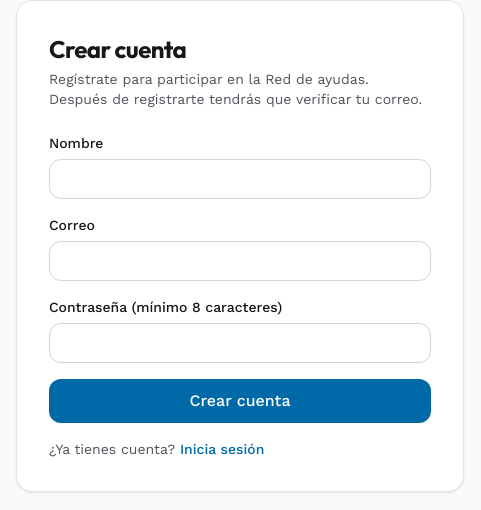
RegisterPage › registra una cuenta personal y muestra "Revisa tu correo"
The width and height of the screenshot is (481, 510).
Type "Gerente" into the field labelled "Nombre" at point(240, 179), box [49,159,431,199]
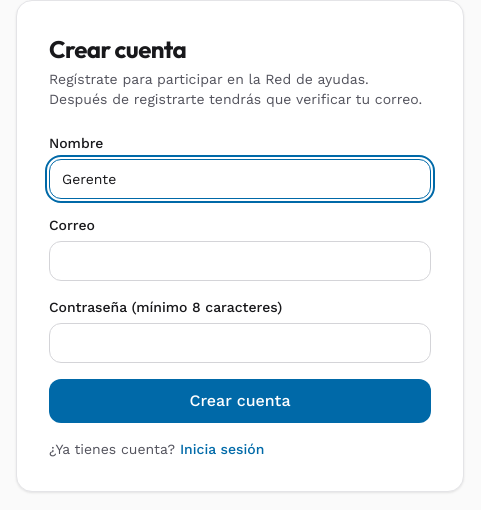
Type "gerente@org.org" into the field labelled "Correo" at point(240, 261), box [49,241,431,281]
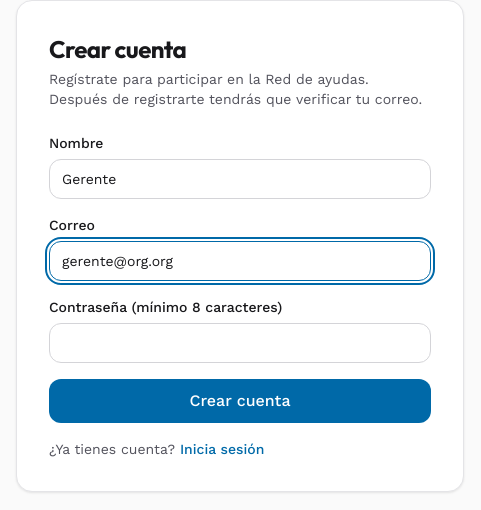
Type "contrasena-segura" into the password field labelled "Contraseña (mínimo 8 caracteres)" at point(240, 343), box [49,323,431,363]
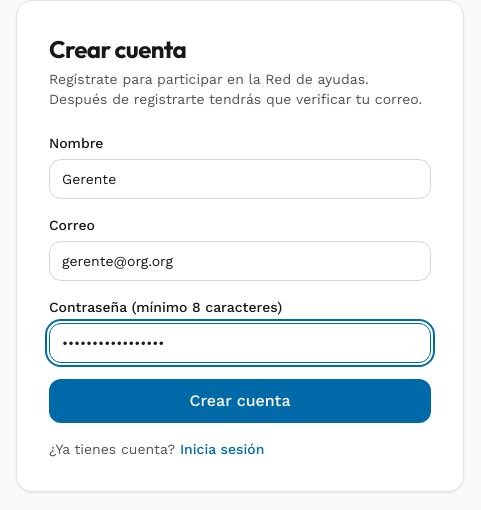
Click the button "Crear cuenta" at point(240, 401), box [49,379,431,423]
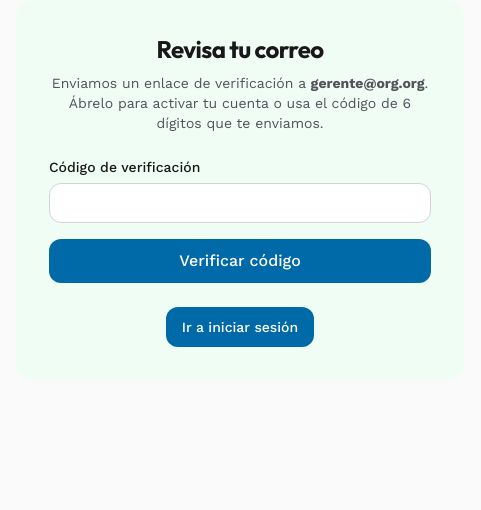
expect the heading "Revisa tu correo" is shown: met, box [156,34,323,64]
expect the text "Enviamos un enlace de verificación" is shown: met, box [52,75,311,91]
